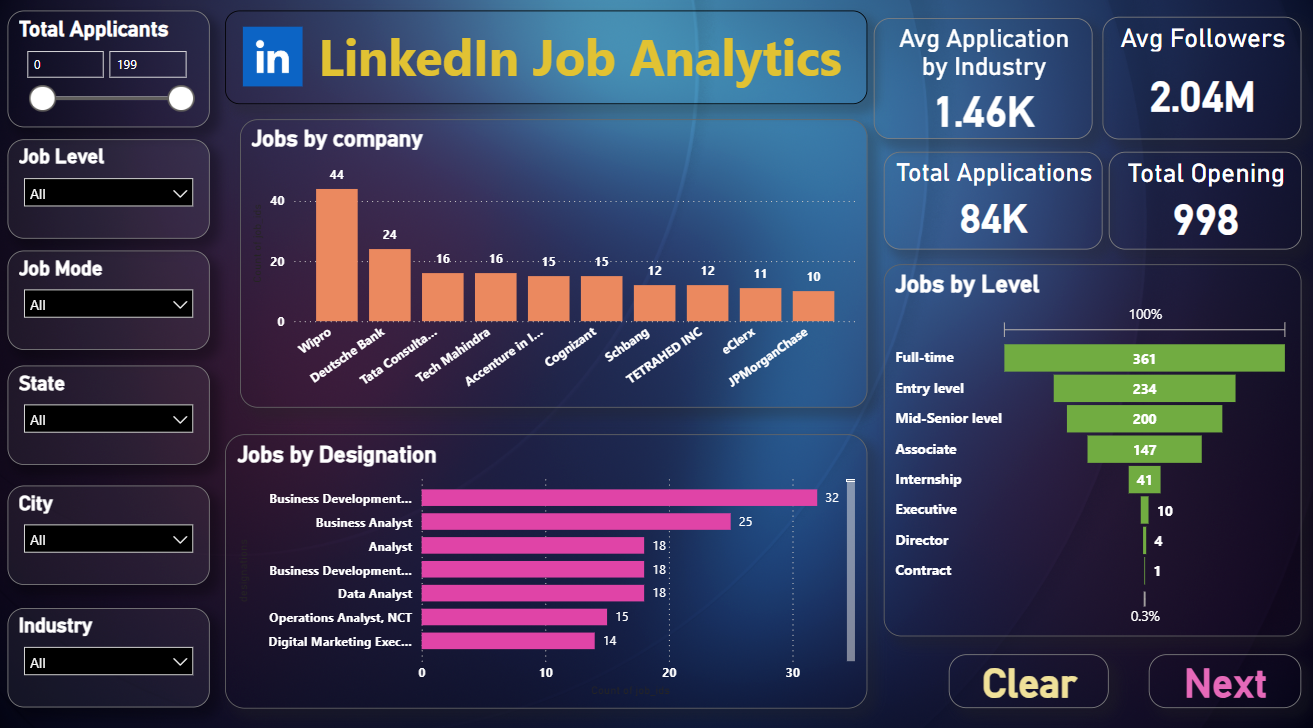

What the dashboard file says about the page in this screenshot:
{"tool":"powerbi","page":{"name":"Main","canvas":[1280,720],"ordinal":0},"visuals":[{"type":"slicer","title":"Total Applicants","fields":{"Values":["Dataframe of Linkdin data Analysis.total_applicants"]},"box":[12.3,16.5,194.9,112.5],"z":0},{"type":"slicer","title":"Job Level","fields":{"Values":["Dataframe of Linkdin data Analysis.Job_Level"]},"box":[12.3,141.3,194.9,96.1],"z":1000},{"type":"slicer","title":"Job Mode","fields":{"Values":["Dataframe of Linkdin data Analysis.Job_mode"]},"box":[12.3,248.4,194.9,96.1],"z":2000},{"type":"slicer","title":"State","fields":{"Values":["Dataframe of Linkdin data Analysis.State"]},"box":[12.3,359.5,194.9,96.1],"z":3000},{"type":"slicer","title":"City","fields":{"Values":["Dataframe of Linkdin data Analysis.City"]},"box":[12.3,474.8,194.9,96.1],"z":4000},{"type":"slicer","title":"Industry ","fields":{"Values":["Dataframe of Linkdin data Analysis.industry"]},"box":[12.3,594.2,194.9,96.1],"z":5000},{"type":"textbox","box":[222.3,16.5,620.2,90.6],"z":6000},{"type":"image","box":[233.3,27.4,70,67.2],"z":7000},{"type":"card","title":"Avg Followers ","fields":{"Values":["Avg(Dataframe of Linkdin data Analysis.linkedin_followers)"]},"box":[1069,23.3,192.1,118],"z":8000},{"type":"card","title":"Total Applications","fields":{"Values":["Sum(Dataframe of Linkdin data Analysis.total_applicants)"]},"box":[857.6,153.7,211.3,94.7],"z":9000},{"type":"card","title":"Total Opening ","fields":{"Values":["CountNonNull(Dataframe of Linkdin data Analysis.job_ids)"]},"box":[1074.4,153.7,186.6,94.7],"z":10000},{"type":"card","title":"Avg Application by Industry ","fields":{"Values":["project_file.Average Applications per Industry"]},"box":[848.1,24.1,211.1,117],"z":11000},{"type":"clusteredBarChart","title":"Jobs by Designation","fields":{"Category":["project_file.designations"],"Y":["CountNonNull(project_file.job_ids)"]},"box":[222.3,425.4,620.2,264.8],"z":12000},{"type":"columnChart","title":"Jobs by company","fields":{"Y":["CountNonNull(project_file.job_ids)"],"Category":["project_file.company_Name"]},"box":[236.5,121.9,605.6,278.7],"z":13000},{"type":"funnel","title":"Jobs by Level","fields":{"Y":["CountNonNull(project_file.job_ids)"],"Category":["project_file.Job_Level"]},"box":[857.8,261.8,403,359.5],"z":14000},{"type":"actionButton","title":"Next","box":[1113.5,638.2,147.2,51.9],"z":15000},{"type":"actionButton","title":"Clear","box":[920.5,638.2,154.4,51.9],"z":16000}]}

Visuals, with their boxes in screenshot pixels (x1, y1, x2, y2), scaled from the page's 1280x720 canvas onto the 1313x728 screenshot:
"Total Applicants" slicer: 13/17/213/130
"Job Level" slicer: 13/143/213/240
"Job Mode" slicer: 13/251/213/348
"State" slicer: 13/363/213/461
"City" slicer: 13/480/213/577
"Industry " slicer: 13/601/213/698
textbox: 228/17/864/108
image: 239/28/311/96
"Avg Followers " card: 1097/24/1294/143
"Total Applications" card: 880/155/1096/251
"Total Opening " card: 1102/155/1294/251
"Avg Application by Industry " card: 870/24/1087/143
"Jobs by Designation" clusteredBarChart: 228/430/864/698
"Jobs by company" columnChart: 243/123/864/405
"Jobs by Level" funnel: 880/265/1293/628
"Next" actionButton: 1142/645/1293/698
"Clear" actionButton: 944/645/1103/698
